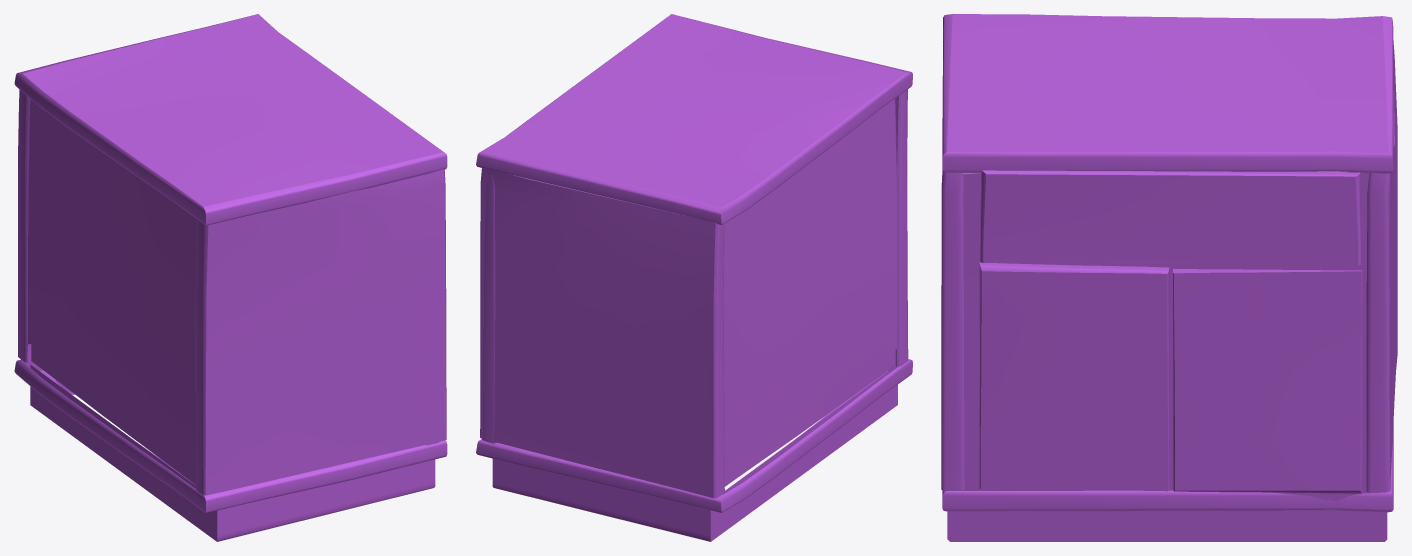
The model's file is Friday_KitchenCounter_V2.fbx.
3 views of the same model, side by side, from view 1: azimuth 30°, elevation 25°; view 2: azimuth 150°, elevation 25°; view 3: azimuth 270°, elevation 25° (orthographic). The views are drawn at different scales.
Visible parts, largest first — view 1: KitchenCabinet_2; view 2: KitchenCabinet_2; view 3: KitchenCabinet_2.
Part boxes in pixels (x1,y1,x2,y2): KitchenCabinet_2: (14,14,447,541); KitchenCabinet_2: (476,14,912,541); KitchenCabinet_2: (941,14,1397,541).
Size of the model in its own units: 61.63 by 80.6 by 83.78.
